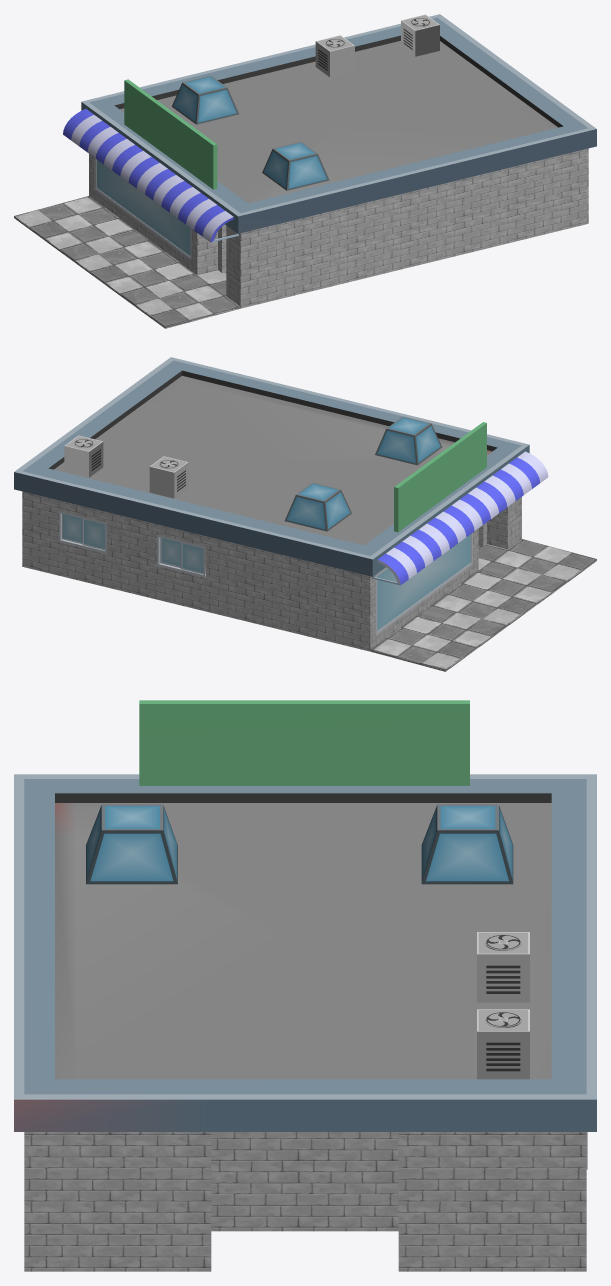
File: Reposteria.FBX
The picture shows the model from 3 angles, top to bottom: view 1: azimuth 30°, elevation 25°; view 2: azimuth 150°, elevation 25°; view 3: azimuth 270°, elevation 25°; orthographic projection. The views are drawn at different scales.
Parts seen in each view (by area): view 1: Modisteria001, Ventana001; view 2: Modisteria001, Ventana001; view 3: Modisteria001.
Part boxes in pixels (x1,y1,x2,y2): Modisteria001: (14, 14, 596, 328); Ventana001: (94, 158, 191, 260); Modisteria001: (14, 357, 596, 671); Ventana001: (58, 511, 472, 635); Modisteria001: (14, 700, 596, 1271).
Size of the model in its own units: 1732 by 1098 by 546.
